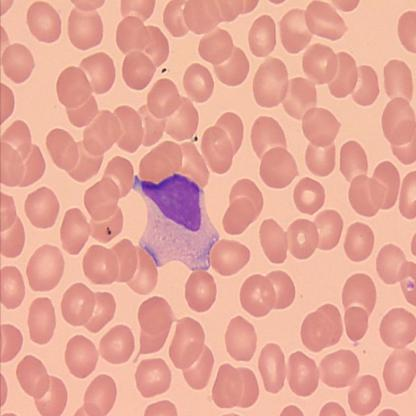Atypical lymphocyte: (133, 172, 220, 269)
